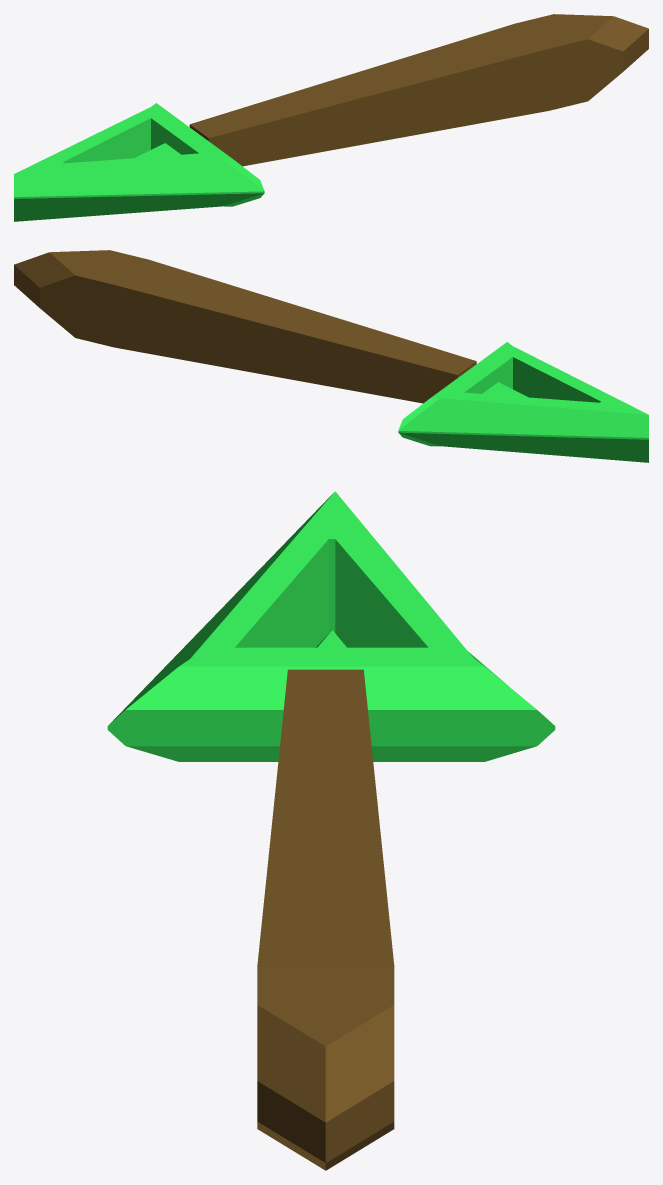
Rendered from PoisonArrow.fbx.
3 views of the same model, one above another, from view 1: azimuth 30°, elevation 25°; view 2: azimuth 150°, elevation 25°; view 3: azimuth 270°, elevation 25° (orthographic). The views are drawn at different scales.
Visible parts, largest first — view 1: Poison; view 2: Poison; view 3: Poison.
Part boxes in pixels (x1,y1,x2,y2): Poison: [14, 14, 648, 221]; Poison: [14, 250, 648, 462]; Poison: [107, 491, 555, 1170].
Size of the model in its own units: 236 by 22.13 by 72.24.
